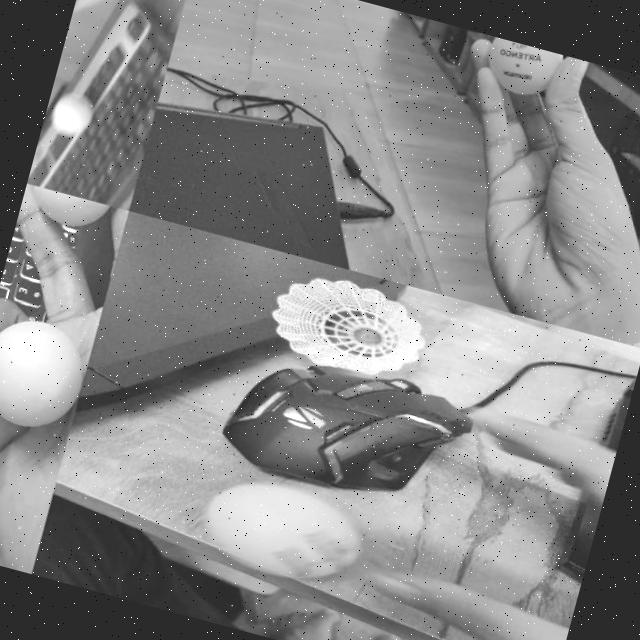ping-pong-ball: (198, 467, 372, 591), (0, 305, 94, 435), (478, 34, 564, 100), (21, 182, 113, 233), (46, 85, 98, 142)
